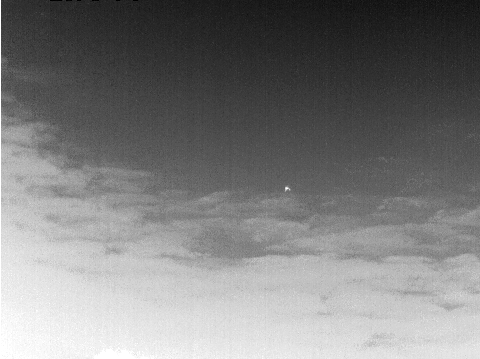dim target: (282, 184, 291, 193)
